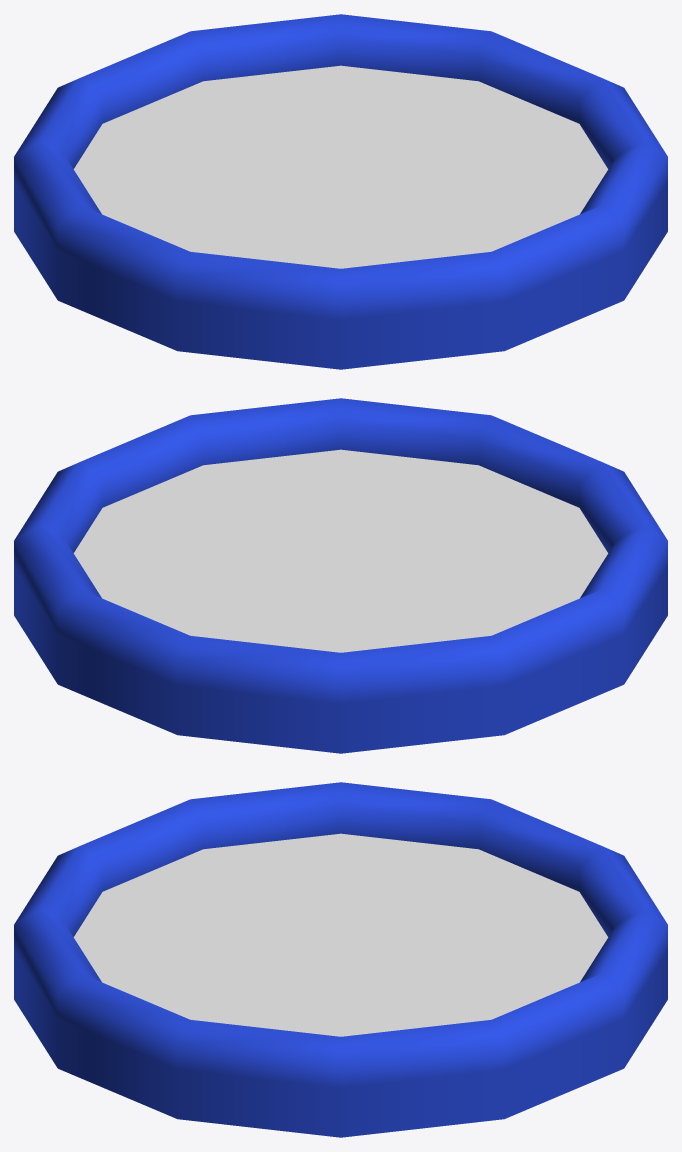
File: Clock.fbx
3 views of the same model, one above another, from view 1: azimuth 30°, elevation 25°; view 2: azimuth 150°, elevation 25°; view 3: azimuth 270°, elevation 25° (orthographic).
Visible parts, largest first — view 1: Clock; view 2: Clock; view 3: Clock.
Boxes of the visible parts, box(x1,y1,x2,y2) form: Clock: box(14, 14, 667, 369); Clock: box(14, 398, 667, 753); Clock: box(14, 782, 667, 1137).
Bounding box in the file's own units: 136 × 20.68 × 136.
